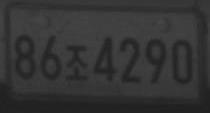0: (171, 38, 193, 85)
2: (119, 37, 143, 84)
4: (92, 36, 119, 81)
6: (39, 34, 62, 82)
8: (14, 34, 36, 80)
9: (144, 38, 167, 86)
조: (65, 43, 89, 82)
